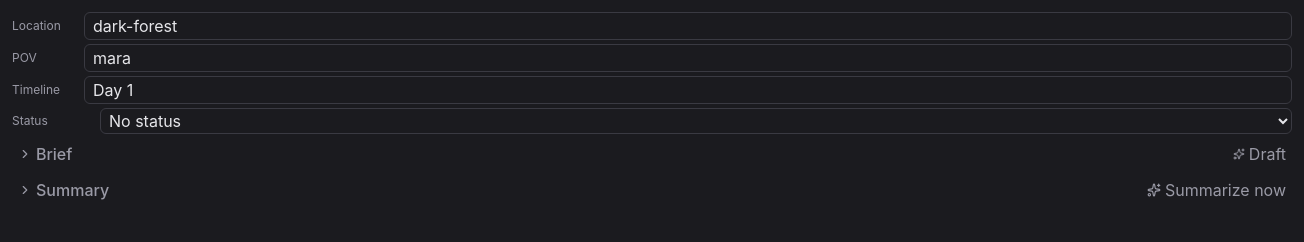
MetadataPane summary (F-5.6) › says a scene with no row yet is summarised after a pause
Click the button "Summary" at (64, 190), box [12,174,115,206]
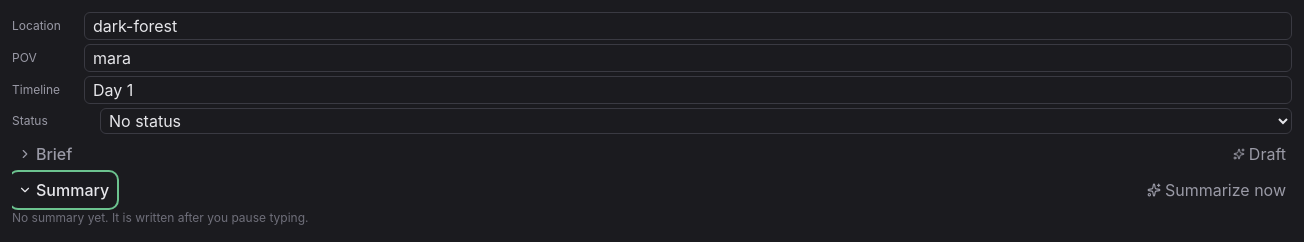
Expected: the text with test id "summary-empty" reads "No summary yet. It is written after you pause typing.", [12,210,308,225]
